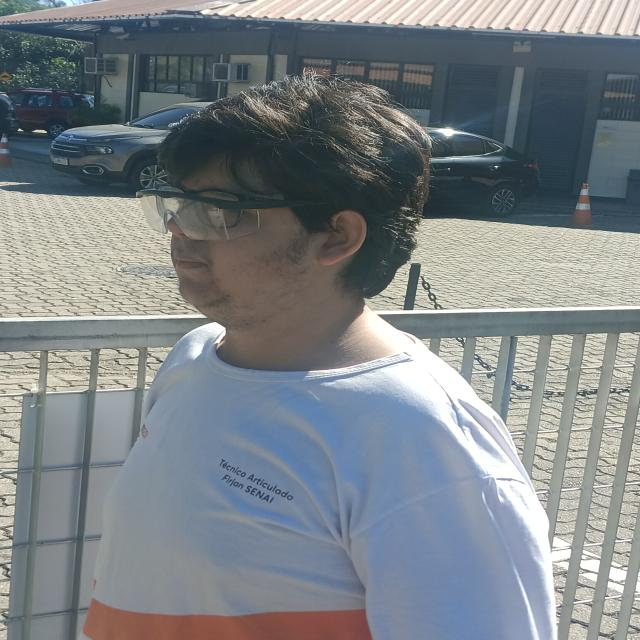oculos-epi: (136, 186, 328, 240)
